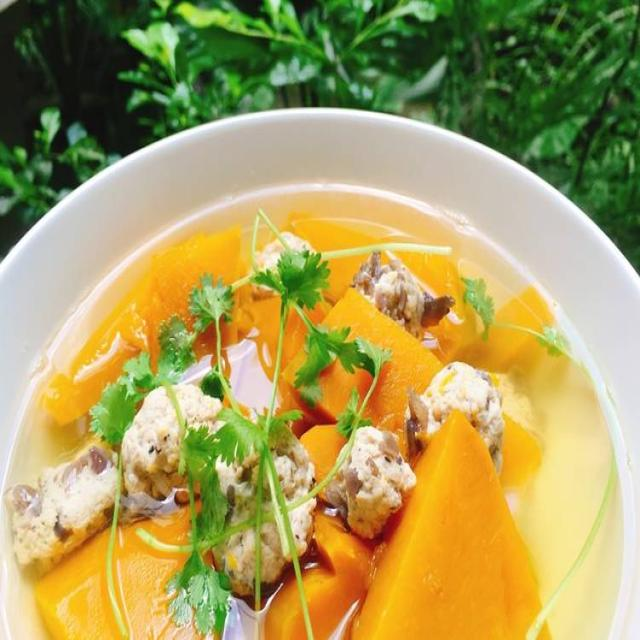canh bi do: (3, 185, 623, 639)
